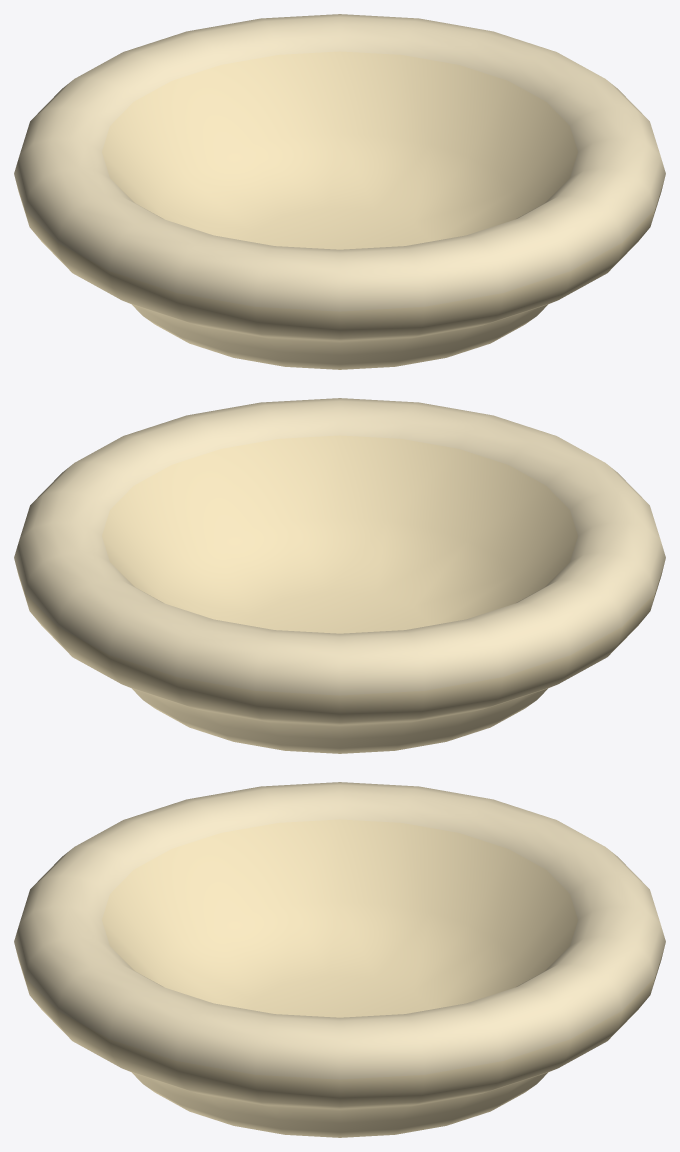
File: prato_natal_fundo_pacote.glb
3 views of the same model, one above another, from view 1: azimuth 30°, elevation 25°; view 2: azimuth 150°, elevation 25°; view 3: azimuth 270°, elevation 25° (orthographic).
Visible parts, largest first — view 1: prato_natal_fundo_pacote; view 2: prato_natal_fundo_pacote; view 3: prato_natal_fundo_pacote.
Boxes of the visible parts, x1,y1,x2,y2 form: prato_natal_fundo_pacote: [14, 14, 665, 369]; prato_natal_fundo_pacote: [14, 398, 665, 753]; prato_natal_fundo_pacote: [14, 782, 665, 1137].
Bounding box in the file's own units: 0.2468 × 0.0609 × 0.2468.
1 material, 1 textured.
